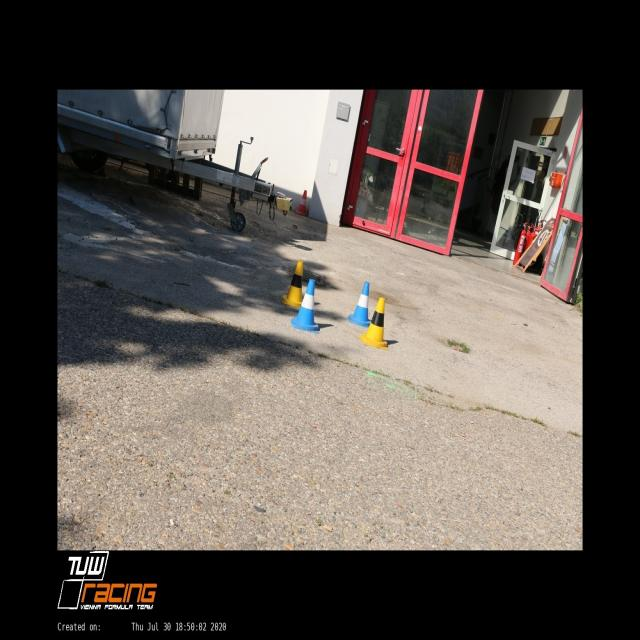blue_cone: (291, 278, 319, 334), (347, 282, 375, 327)
orange_cone: (295, 191, 308, 217)
yellow_cone: (359, 297, 389, 350), (281, 260, 307, 308)
